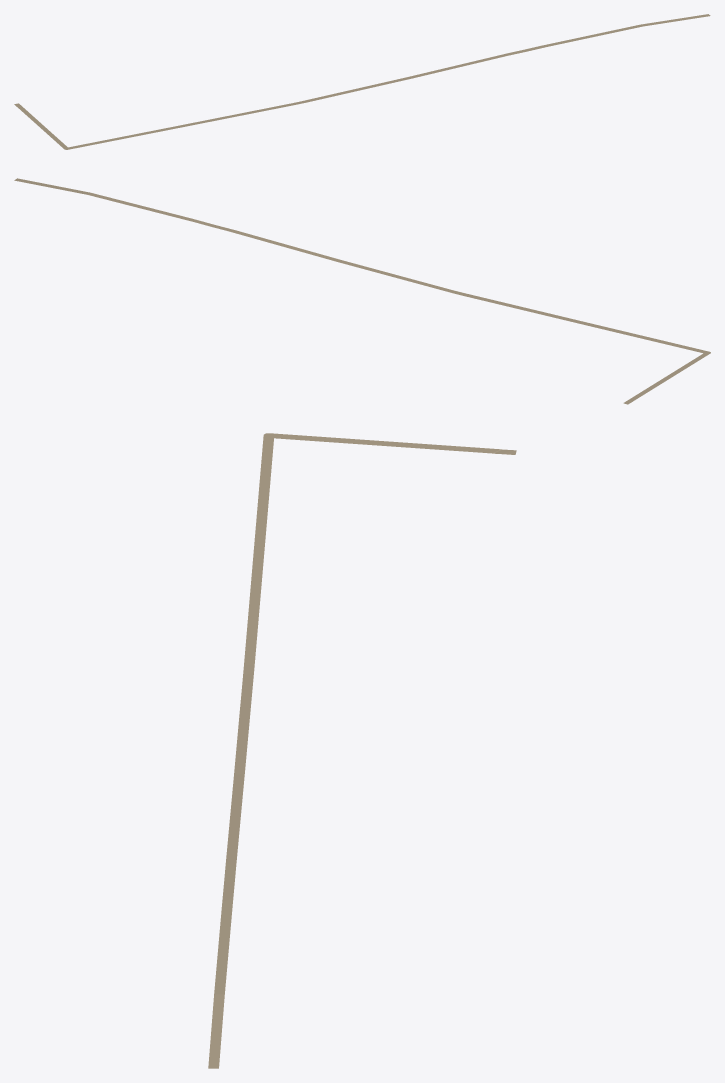
Rendered from farm_17_16_track.glb.
3 views of the same model, one above another, from view 1: azimuth 30°, elevation 25°; view 2: azimuth 150°, elevation 25°; view 3: azimuth 270°, elevation 25° (orthographic). The views are drawn at different scales.
Parts seen in each view (by area): view 1: geometry_0; view 2: geometry_0; view 3: geometry_0.
Part boxes in pixels (left/top/right/bottom): geometry_0: left=14, top=14, right=710, bottom=149; geometry_0: left=14, top=178, right=710, bottom=404; geometry_0: left=208, top=433, right=516, bottom=1068.
Bounding box in the file's own units: 446 × 6.49 × 94.31.
